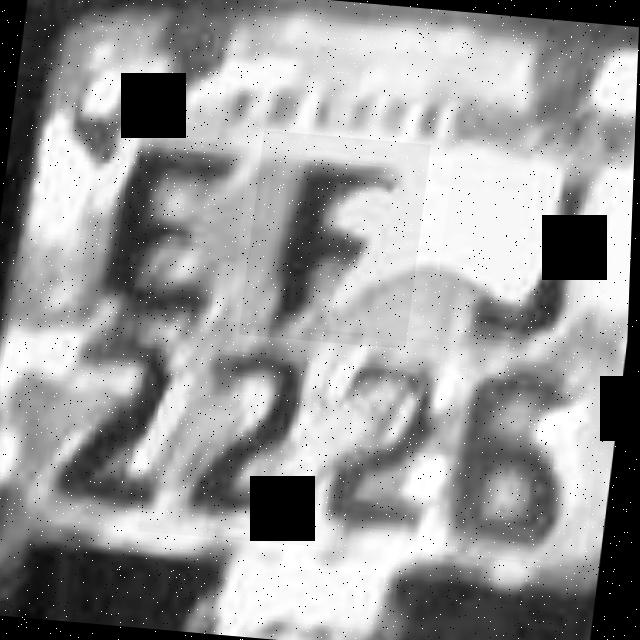2: (141, 316, 366, 548), (15, 301, 231, 532)
6: (420, 337, 613, 566)
E: (77, 132, 251, 329)
F: (286, 332, 473, 582), (240, 130, 432, 348)
J: (433, 139, 620, 353)
